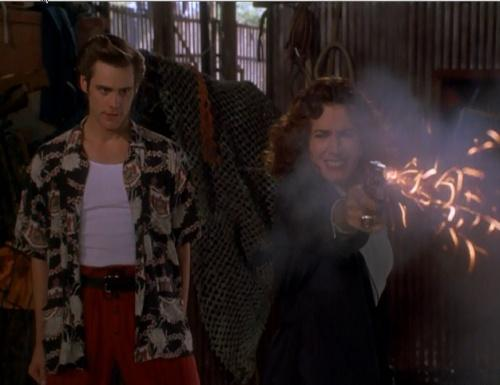Gun: (364, 160, 398, 209)
